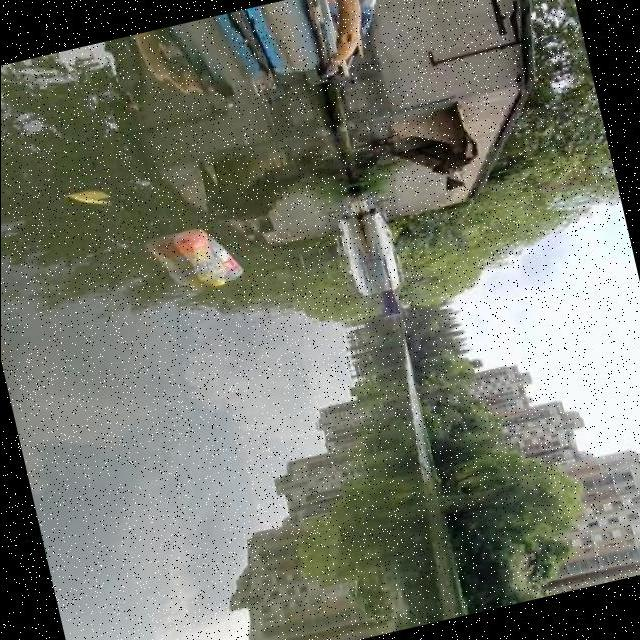Waste: (174, 227, 247, 288)
